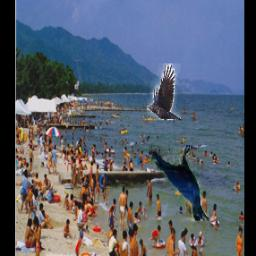Crow: (149, 146, 209, 222), (147, 63, 181, 120)
